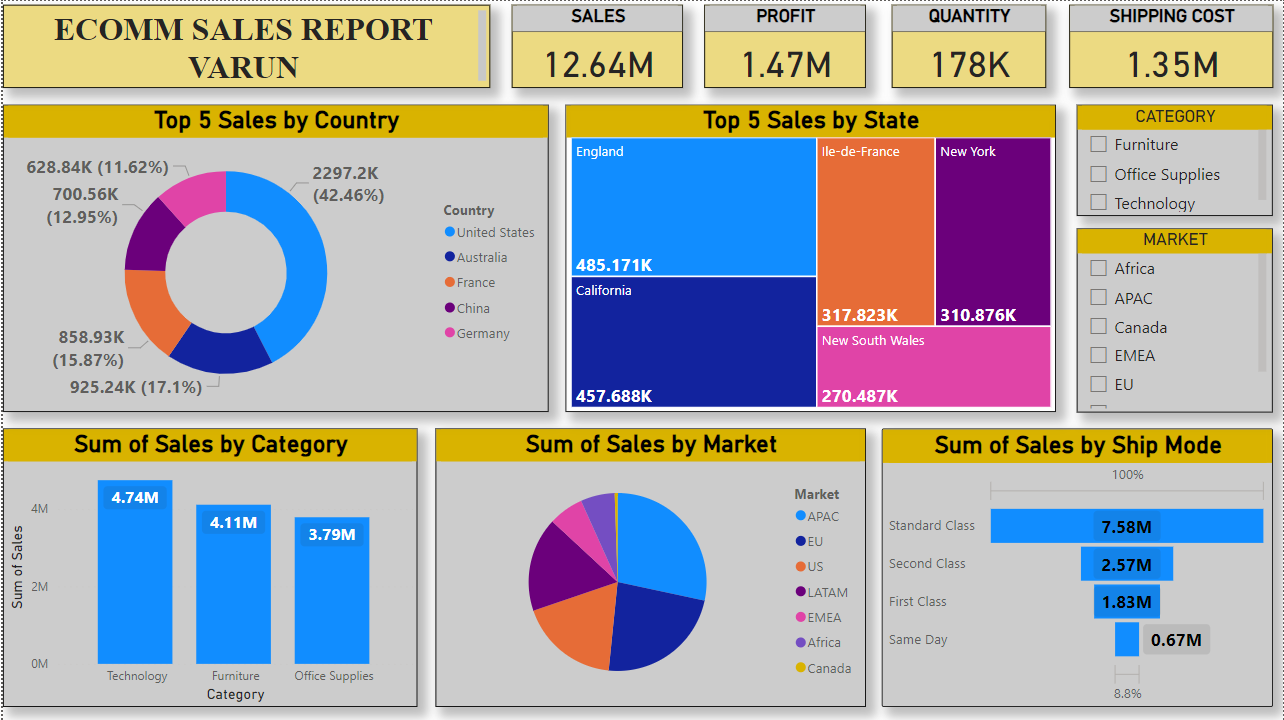

The dashboard page shown, as its layout file describes it:
{"tool":"powerbi","page":{"name":"Page 1","canvas":[1280,720],"ordinal":0},"visuals":[{"type":"columnChart","fields":{"Category":["Orders.Category"],"Y":["Orders.Sales"]},"box":[0,427.1,414.3,278.6],"z":0},{"type":"pieChart","fields":{"Category":["Orders.Market"],"Y":["Orders.Sales"]},"box":[432.9,427.1,430,278.6],"z":1000},{"type":"funnel","fields":{"Category":["Orders.Ship Mode"],"Y":["Orders.Sales"]},"box":[878.6,427.1,391.4,278.6],"z":2000},{"type":"treemap","title":"Top 5 Sales by State","fields":{"Group":["Orders.State"],"Values":["Orders.Sales"]},"box":[562.9,104.3,490,307.1],"z":3000},{"type":"donutChart","title":"Top 5 Sales by Country","fields":{"Category":["Orders.Country"],"Y":["Orders.Sales"]},"box":[0,104.3,545.7,307.1],"z":4000},{"type":"textbox","box":[0,4.3,487.1,82.9],"z":5000},{"type":"card","title":"SALES","fields":{"Values":["Orders.Sales"]},"box":[508.6,4.3,171.4,82.9],"z":6000},{"type":"card","title":"PROFIT","fields":{"Values":["Orders.Profit"]},"box":[701.4,4.3,161.4,82.9],"z":7000},{"type":"card","title":"QUANTITY","fields":{"Values":["Orders.Quantity"]},"box":[888.6,4.3,154.3,82.9],"z":8000},{"type":"card","title":"SHIPPING COST","fields":{"Values":["Orders.Shipping Cost"]},"box":[1065.7,4.3,204.3,82.9],"z":9000},{"type":"slicer","title":"CATEGORY","fields":{"Values":["Orders.Category"]},"box":[1074.3,104.3,195.7,111.4],"z":9001},{"type":"slicer","title":"MARKET","fields":{"Values":["Orders.Market"]},"box":[1074.3,227.1,195.7,184.3],"z":9002}]}

Visuals, with their boxes in screenshot pixels (x1, y1, x2, y2), scaled from the page's 1280x720 canvas onto the 1284x720 screenshot:
columnChart - Orders.Category x Orders.Sales: 0 427 416 706
pieChart - Orders.Market x Orders.Sales: 434 427 866 706
funnel - Orders.Ship Mode x Orders.Sales: 881 427 1274 706
"Top 5 Sales by State" treemap: 565 104 1056 411
"Top 5 Sales by Country" donutChart: 0 104 547 411
textbox: 0 4 489 87
"SALES" card: 510 4 682 87
"PROFIT" card: 704 4 865 87
"QUANTITY" card: 891 4 1046 87
"SHIPPING COST" card: 1069 4 1274 87
"CATEGORY" slicer: 1078 104 1274 216
"MARKET" slicer: 1078 227 1274 411
